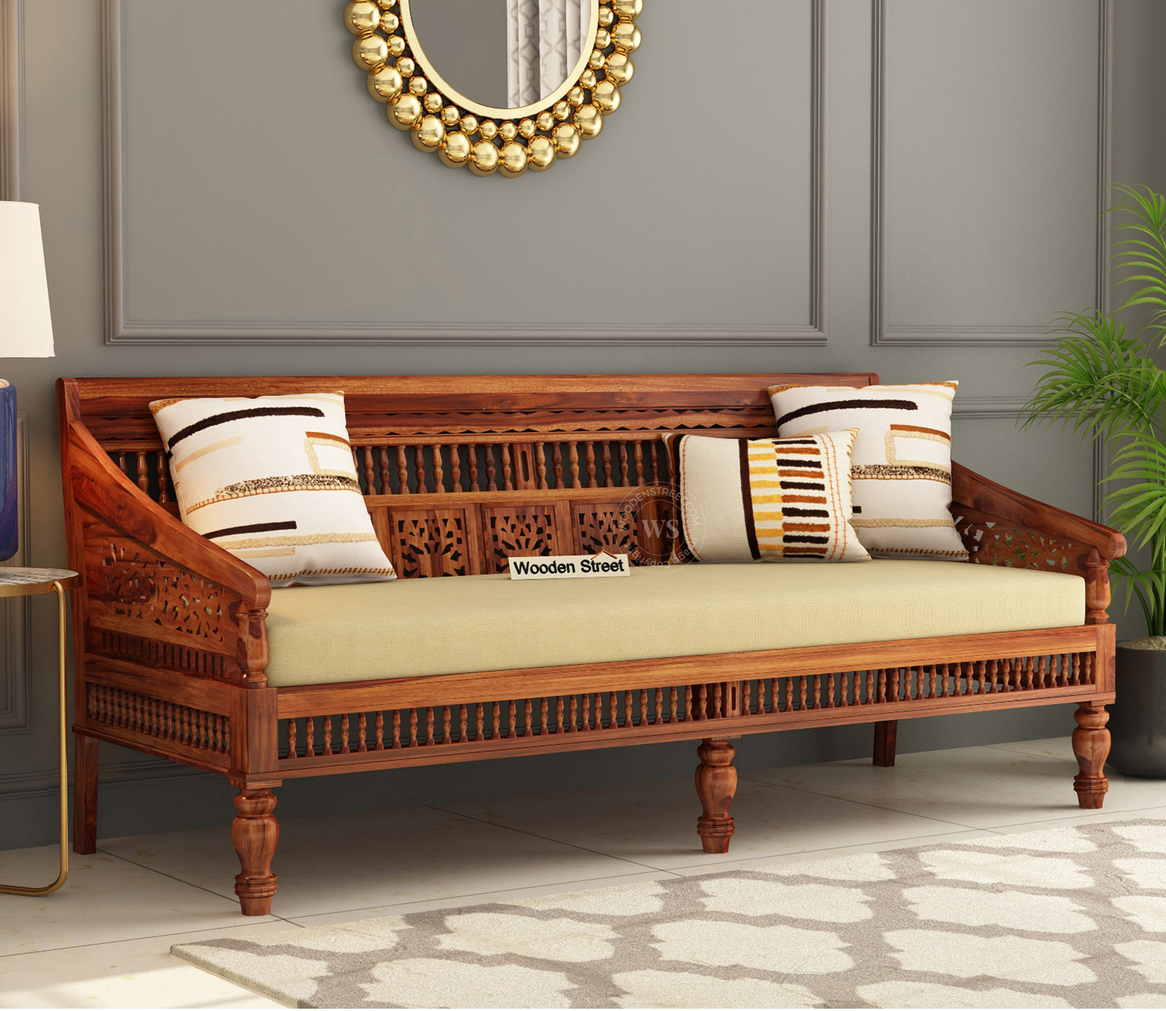3seatersofa: (58, 374, 1121, 913)
backrest: (80, 373, 876, 575)
base: (273, 624, 1115, 779)
leftarmrest: (952, 463, 1125, 694)
leg: (232, 788, 278, 915), (695, 737, 737, 853), (1072, 702, 1110, 808), (73, 733, 98, 853), (873, 721, 896, 766)
pillow: (150, 390, 396, 586), (770, 382, 966, 559), (665, 429, 869, 562)
rightarmrest: (58, 380, 278, 782)
